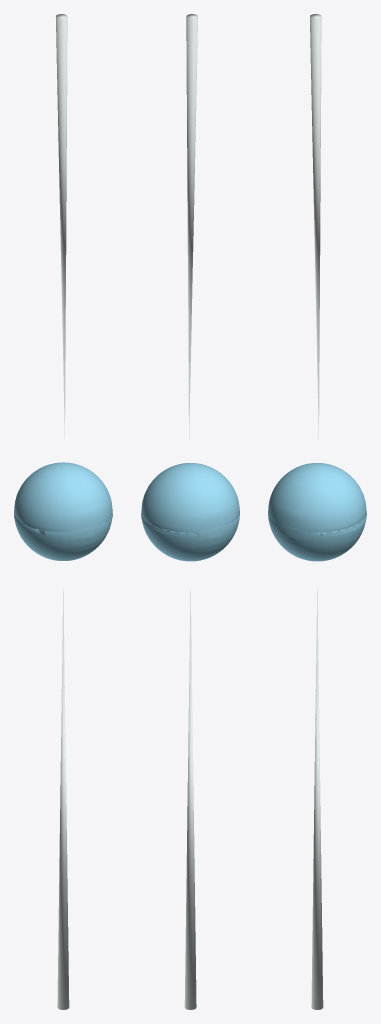
The model's file is universalAxion0.gltf.
3 renders of one model, left to right at view 1: azimuth 30°, elevation 25°; view 2: azimuth 210°, elevation 25°; view 3: azimuth 330°, elevation 25°, orthographic.
Visible parts, largest first — view 1: Sphere..Topp, Cone, Coneb, Sphere.Bottom; view 2: Sphere..Topp, Cone, Coneb, Sphere.Bottom; view 3: Sphere..Topp, Cone, Coneb, Sphere.Bottom.
Part boxes in pixels (x1,y1,x2,y2): Sphere..Topp: (14,462,112,532); Cone: (56,14,67,438); Coneb: (57,588,69,1009); Sphere.Bottom: (14,513,112,560); Sphere..Topp: (141,463,239,532); Cone: (186,14,197,439); Coneb: (184,588,196,1009); Sphere.Bottom: (141,513,239,561); Sphere..Topp: (268,463,366,532); Cone: (310,14,321,439); Coneb: (311,588,323,1009); Sphere.Bottom: (268,513,366,561).
Bounding box in the file's own units: 1.26 × 13.84 × 1.25.
